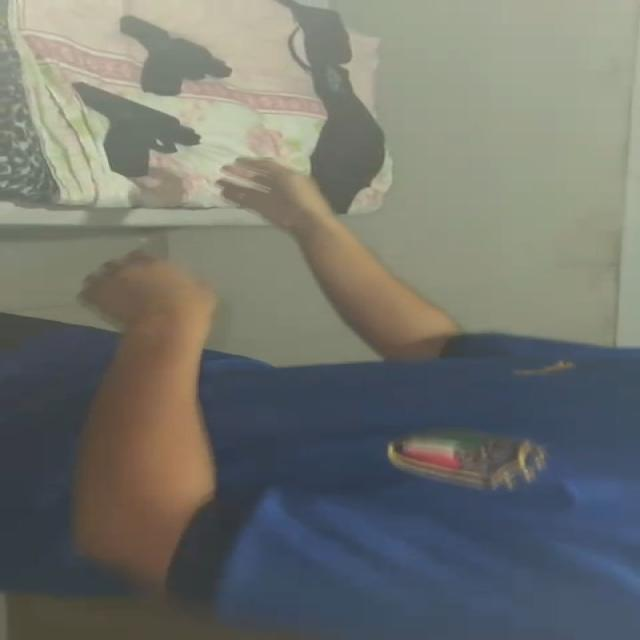gun: (73, 83, 202, 185), (118, 14, 237, 94)
